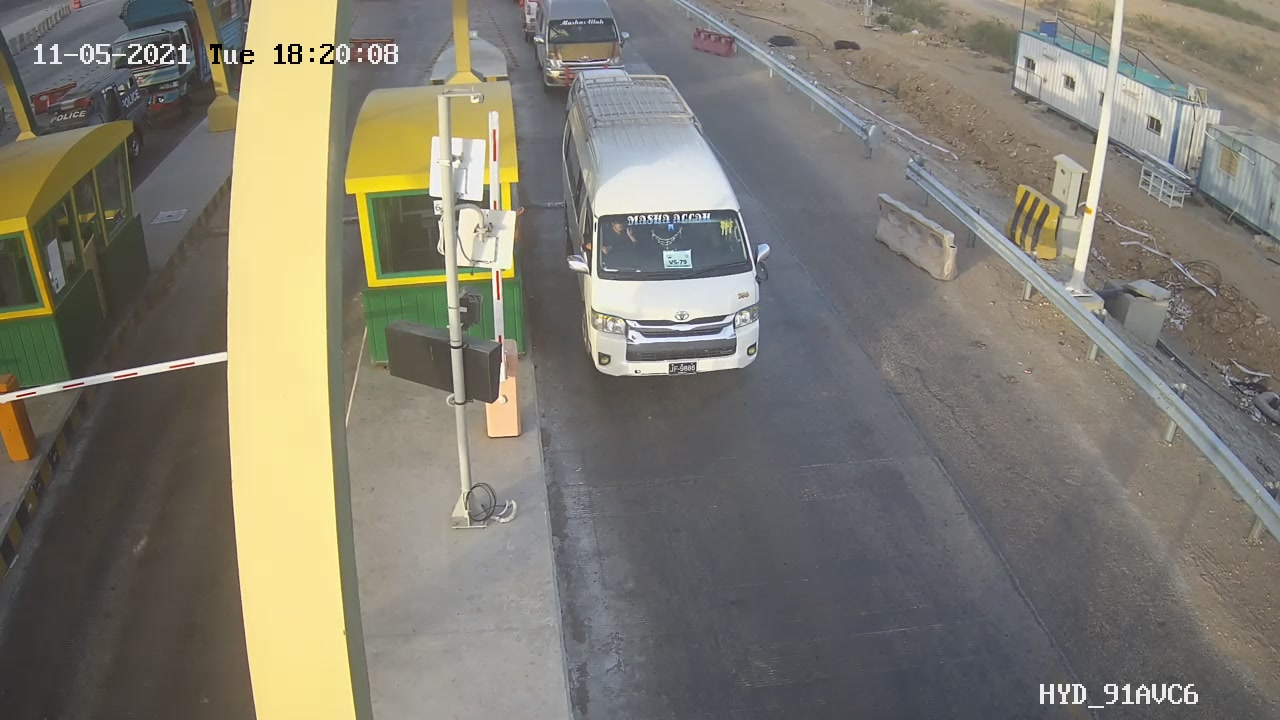F2: (553, 92, 779, 388)
